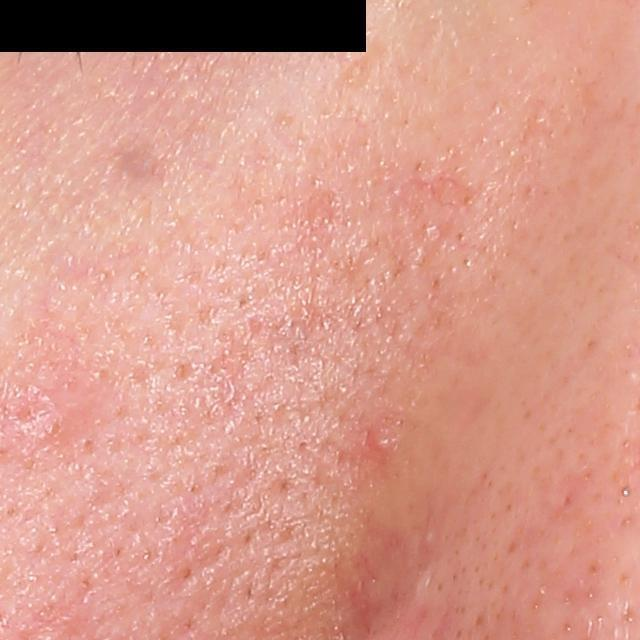papule: (0, 387, 61, 445), (365, 421, 399, 454)
